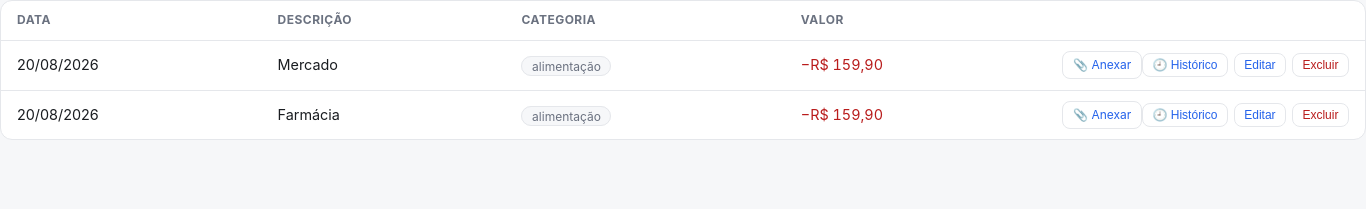
TransactionList › edita uma linha por vez: abrir outra fecha a anterior
Click the button with aria-label "Editar Mercado" at (1260, 65), box top-left (1234, 53), bottom-right (1286, 77)
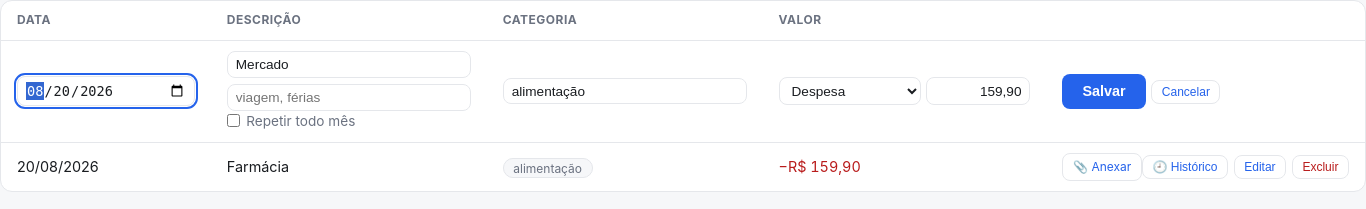
Click the button with aria-label "Editar Farmácia" at (1260, 167), box top-left (1234, 155), bottom-right (1286, 179)
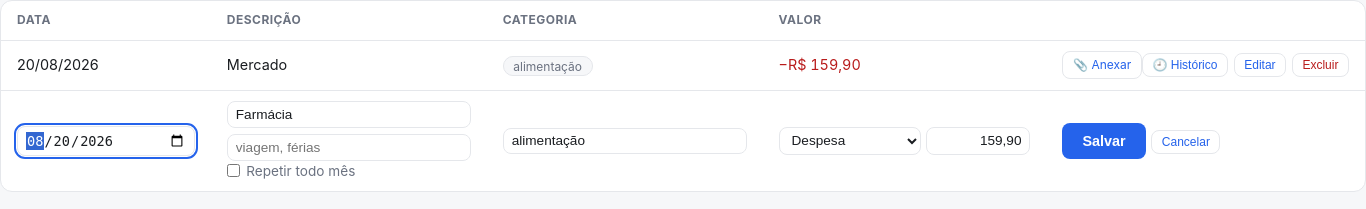
Expected: the number of fields named "Descrição" is 1, top-left (227, 101), bottom-right (471, 128)
Expected: the field named "Descrição" holds "Farmácia", top-left (227, 101), bottom-right (471, 128)
Expected: the text "Mercado" is shown, top-left (211, 40), bottom-right (487, 90)
